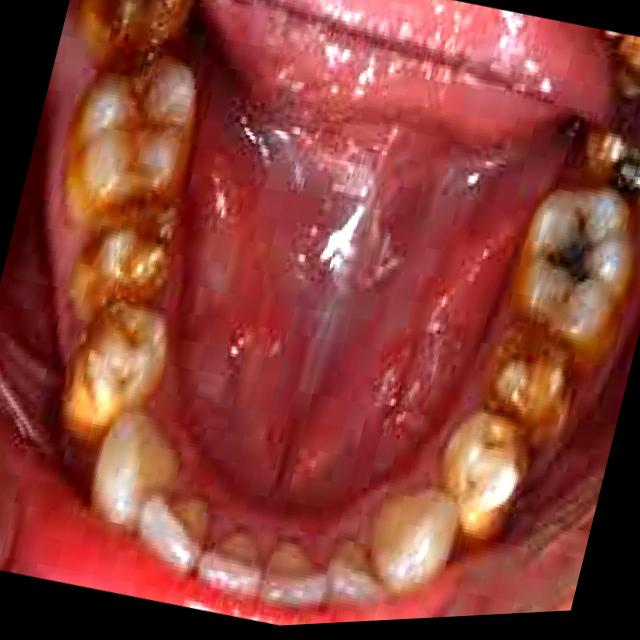tooth-discoloration: (66, 53, 198, 313), (516, 187, 634, 348), (65, 302, 168, 438), (442, 409, 528, 536), (488, 335, 572, 444), (372, 487, 459, 590), (149, 0, 188, 36), (121, 0, 132, 13), (132, 0, 138, 7)
